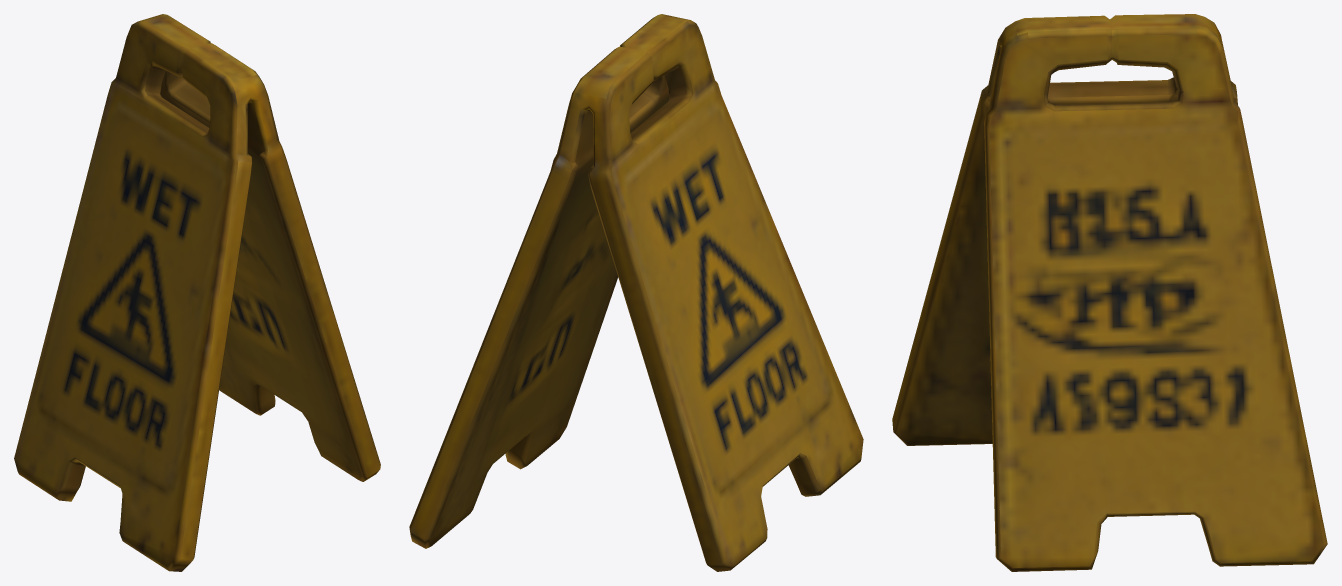
File: safety_foldable_caution_sign.fbx
3 views of the same model, side by side, from view 1: azimuth 30°, elevation 25°; view 2: azimuth 150°, elevation 25°; view 3: azimuth 270°, elevation 25° (orthographic). The views are drawn at different scales.
Parts seen in each view (by area): view 1: safety_foldable_caution_sign; view 2: safety_foldable_caution_sign; view 3: safety_foldable_caution_sign.
Boxes of the visible parts, box(x1,y1,x2,y2) form: safety_foldable_caution_sign: box(14, 14, 380, 571); safety_foldable_caution_sign: box(409, 14, 863, 571); safety_foldable_caution_sign: box(892, 14, 1327, 571).
Size of the model in its own units: 68.85 by 105 by 85.91.
